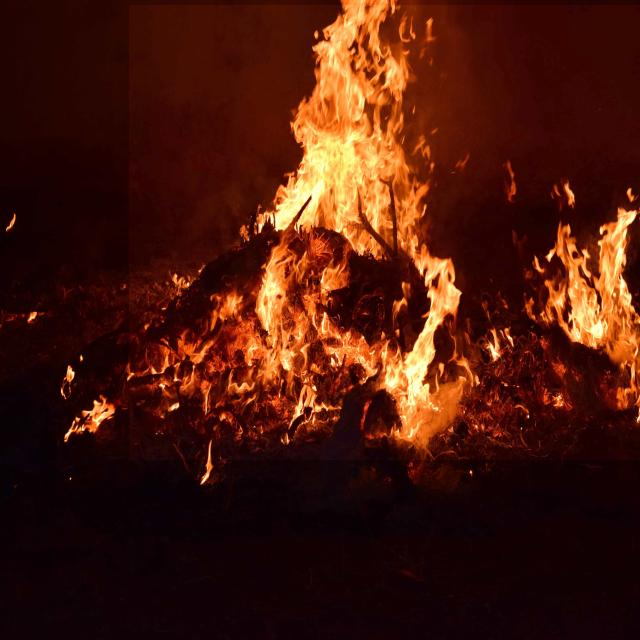Fire: (129, 5, 640, 460)
